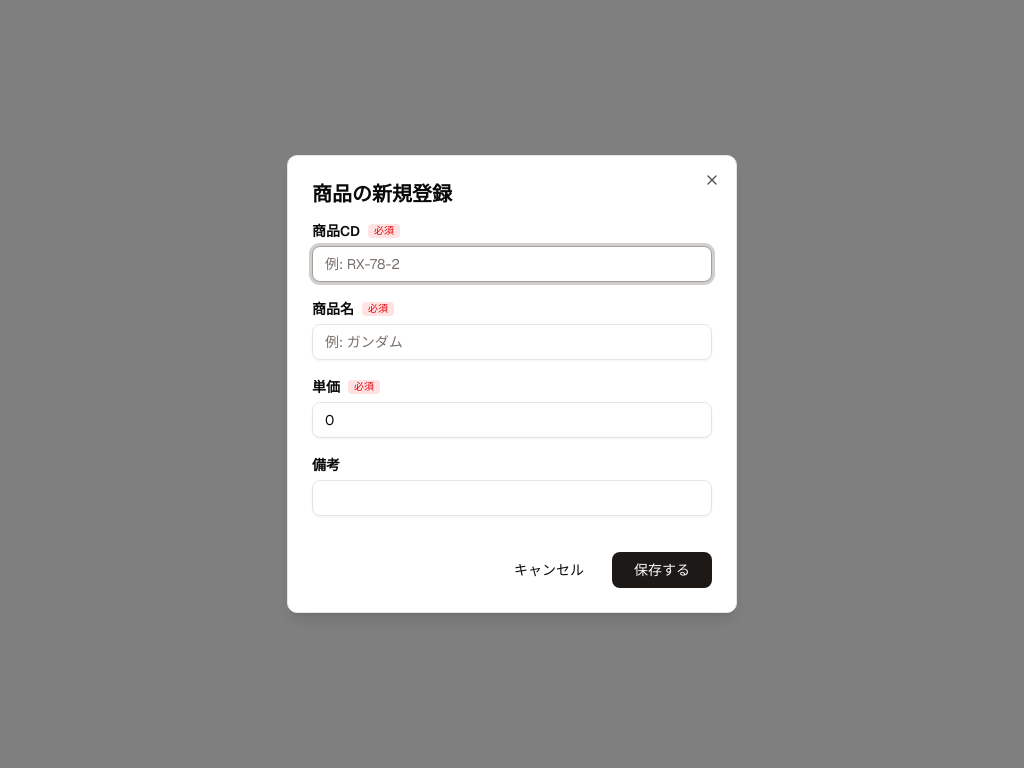
it: ProductDialog コンポーネント（保存フロー） › 商品CD重複エラー時にフィールドエラーが表示されること
In the field with placeholder "例: RX-78-2": {"x": 512, "y": 264} left=312, top=246, right=712, bottom=282, type "PROD-001"
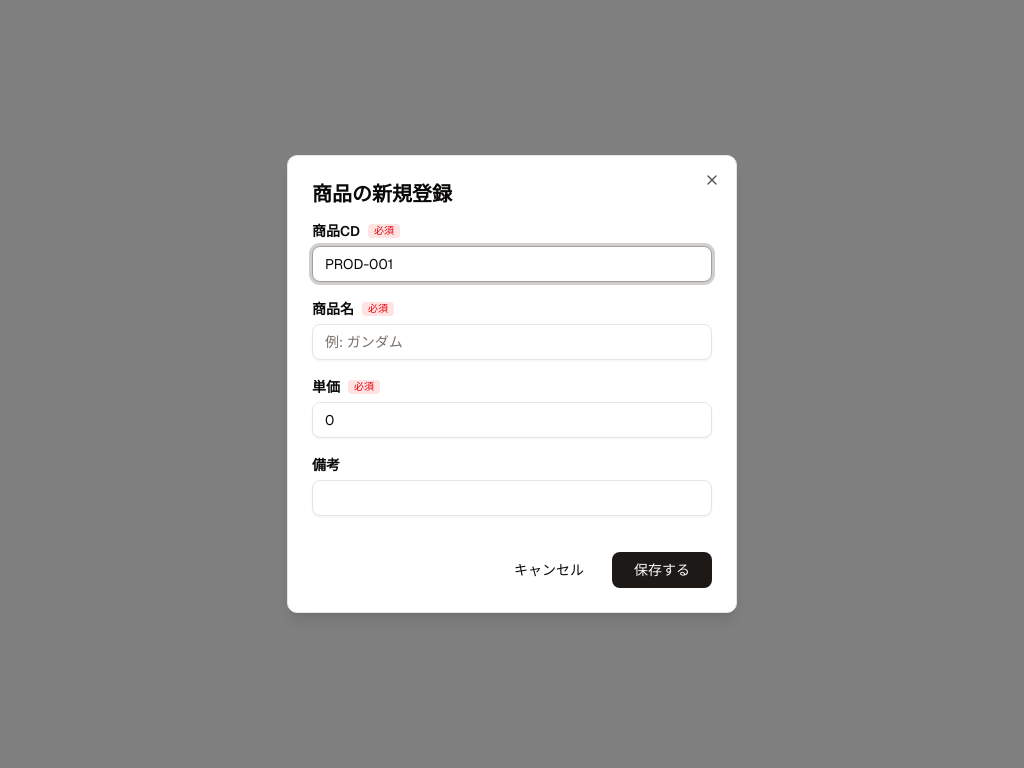
In the field with placeholder "例: ガンダム": {"x": 512, "y": 342} left=312, top=324, right=712, bottom=360, type "新商品"
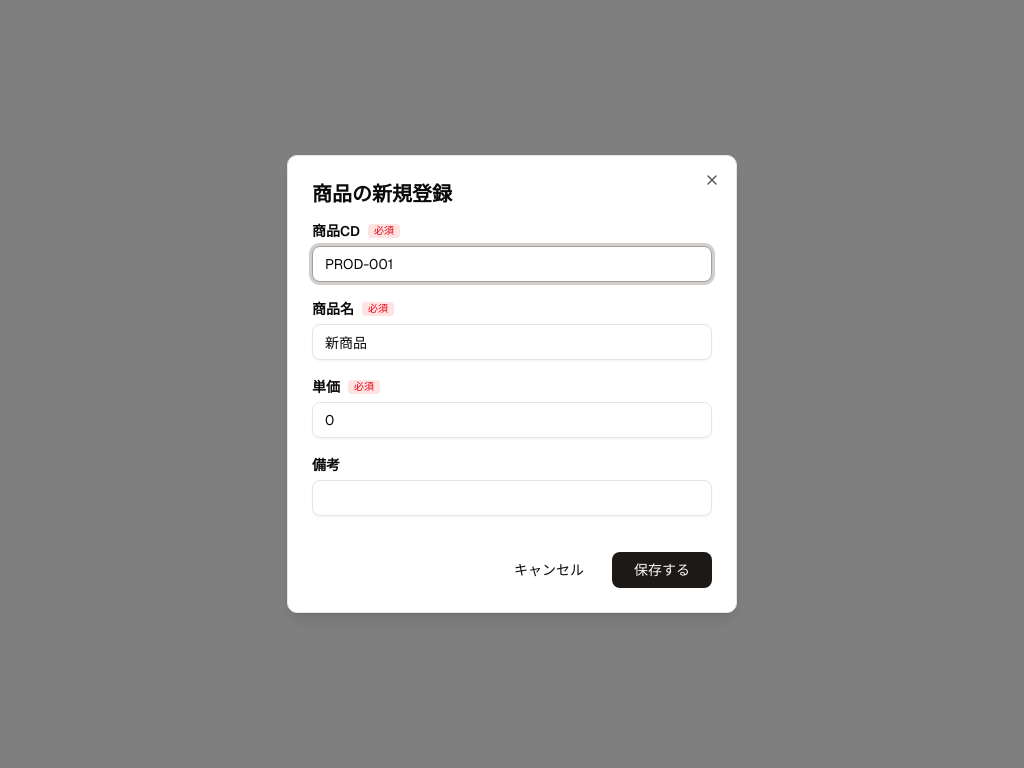
Submit the form "保存する", box left=312, top=224, right=712, bottom=588
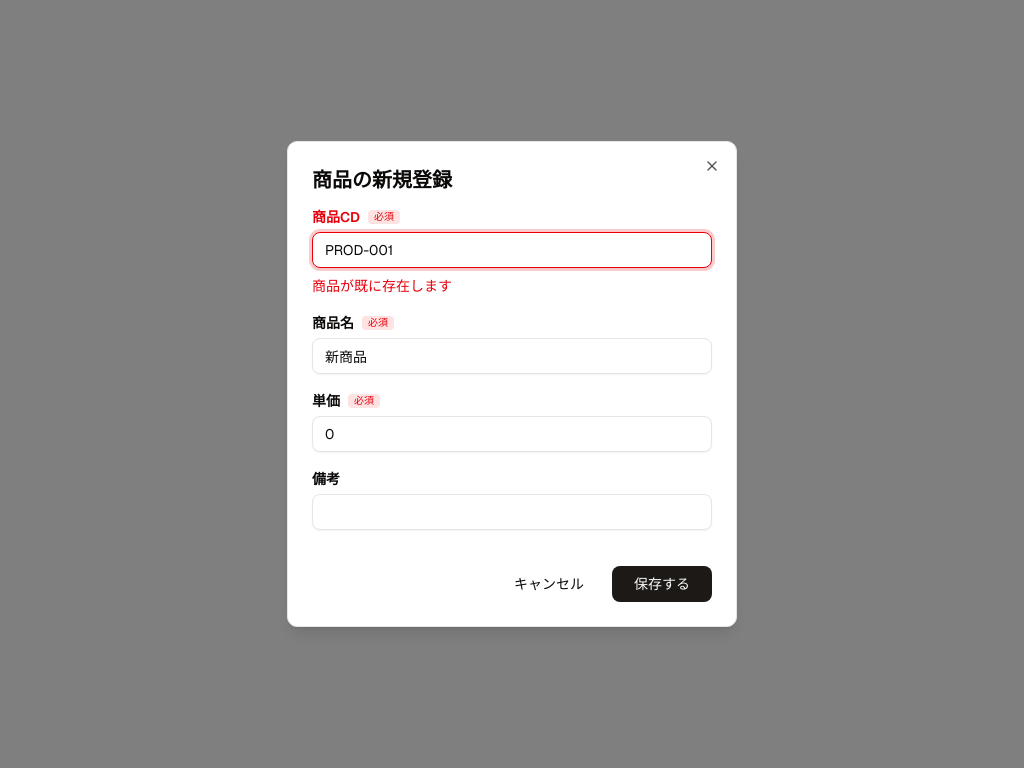
Check: the text "商品が既に存在します" is shown, box left=312, top=277, right=452, bottom=295
